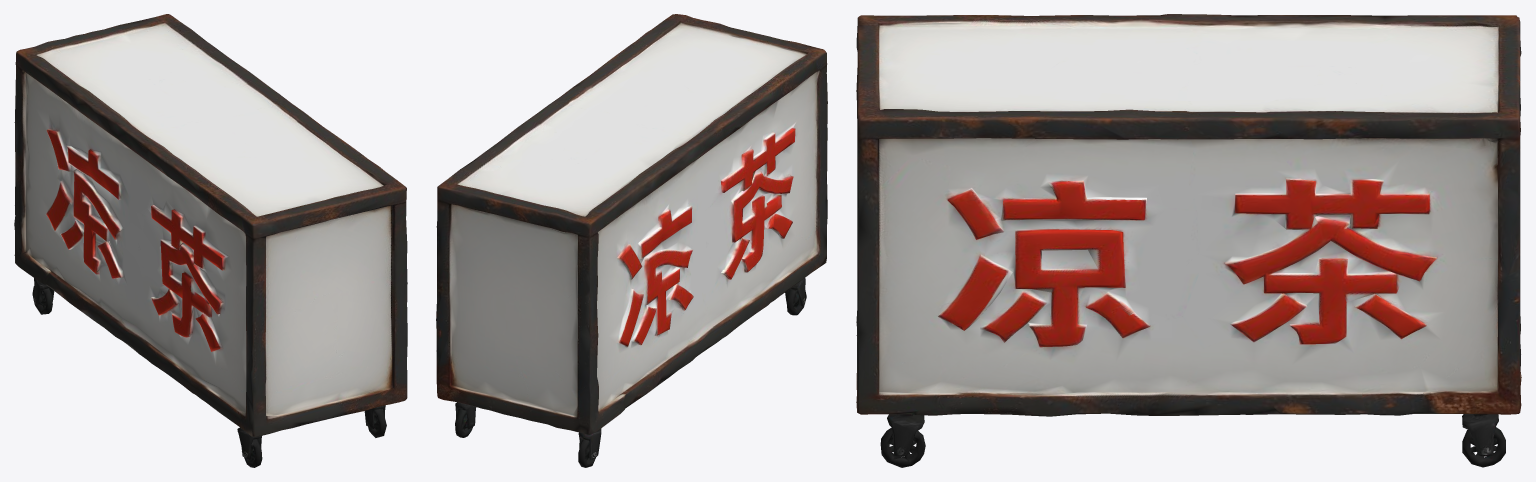
The model's file is lightbox.glb.
3 views of the same model, side by side, from view 1: azimuth 30°, elevation 25°; view 2: azimuth 150°, elevation 25°; view 3: azimuth 270°, elevation 25° (orthographic). The views are drawn at different scales.
Parts seen in each view (by area): view 1: tripo_node_2f9ec505-6cc1-418e-89cc-1a2d8cb9b678; view 2: tripo_node_2f9ec505-6cc1-418e-89cc-1a2d8cb9b678; view 3: tripo_node_2f9ec505-6cc1-418e-89cc-1a2d8cb9b678.
Part boxes in pixels (x1=…): tripo_node_2f9ec505-6cc1-418e-89cc-1a2d8cb9b678: x1=14, y1=14, x2=407, y2=467; tripo_node_2f9ec505-6cc1-418e-89cc-1a2d8cb9b678: x1=436, y1=14, x2=827, y2=467; tripo_node_2f9ec505-6cc1-418e-89cc-1a2d8cb9b678: x1=856, y1=14, x2=1521, y2=467.
Size of the model in its own units: 0.3833 by 0.5968 by 1.
Materials: 1 (1 with a texture image).
